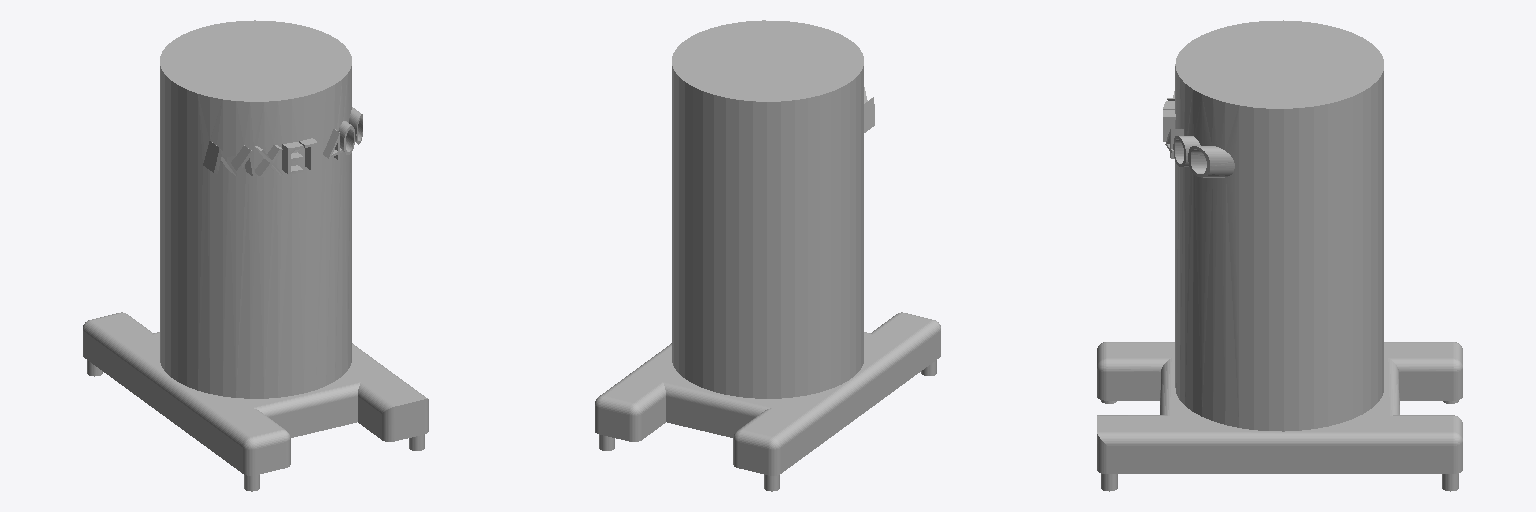
URDF robot description (ur5_stand):
<?xml version="1.0" encoding="utf-8"?>
<!-- =================================================================================== -->
<!-- |    This document was autogenerated by xacro from ur5_stand.xacro                | -->
<!-- |    EDITING THIS FILE BY HAND IS NOT RECOMMENDED                                 | -->
<!-- =================================================================================== -->
<!-- <xacro:include filename="$(find labs_400)/urdf/materials.xacro" /> -->
<robot name="ur5_stand">
  <material name="blue">
    <color rgba= "0 0 1 1"/>
  </material>
  <material name="grey">
    <color rgba="0.75 0.75 0.75 1"/>
  </material>

  <!-- ... -->


  <link name="world"/>
  <joint name="joint_fix" type="fixed">
    <parent link="world"/>
    <child link="stand"/>
  </joint>
  <!-- Create a fixed joint with a parameterized name. -->
  <link name="stand">
    <!--2-->
    <visual>
      <origin rpy="1.570796 0 0" xyz="0 0 0"/>
      <geometry>
        <mesh filename="package://mxet_ros2_labs/meshes/lab6_meshes/UR5_Stand.stl" scale="0.001 0.001 0.001"/>
      </geometry>
      <material name="grey"/>
    </visual>
    <collision>
      <origin rpy="1.570796 0 0" xyz="0 0 0"/>
      <geometry>
        <mesh filename="package://mxet_ros2_labs/meshes/lab6_meshes/UR5_Stand.stl" scale="0.001 0.001 0.001"/>
      </geometry>
    </collision>
    <inertial>
      <origin rpy="1.570796 0 0" xyz="0 0 0"/>
      <mass value="5.0"/>
      <inertia ixx="0.001" ixy="0.0" ixz="0.0" iyy="0.001" iyz="0.0" izz="0.001"/>
    </inertial>
  </link>
  <gazebo reference="stand">
    <!-- <material>Gazebo/Blue</material> -->
    <!-- <mu1>10</mu1>
    <mu2>10</mu2> -->
    <material>Gazebo/Grey</material>
  </gazebo>
</robot>

--- What the picture shows (computed from the rendered views, not written in the file) ---
3 views of the same robot in one strip: view 1: azimuth 30°, elevation 25°; view 2: azimuth 150°, elevation 25°; view 3: azimuth 270°, elevation 25° (orthographic).
Model ur5_stand with 2 links and 1 joints (1 fixed), rooted at world, posed every joint at zero.
Links seen in each view (by area): view 1: stand; view 2: stand; view 3: stand.
Link boxes in pixels (box(x1,y1,x2,y2)): stand: box(83, 20, 428, 491); stand: box(595, 20, 940, 491); stand: box(1097, 20, 1462, 491).
Size in the robot's own frame: 0.1108 by 0.175 by 0.2 metres.
Meshes: 1 distinct files referenced, 1 mesh visuals loaded (1 binary STL).